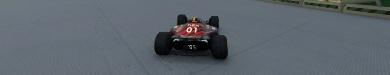Car: (153, 14, 228, 59)
obstacles-Borders: (342, 2, 389, 21)
